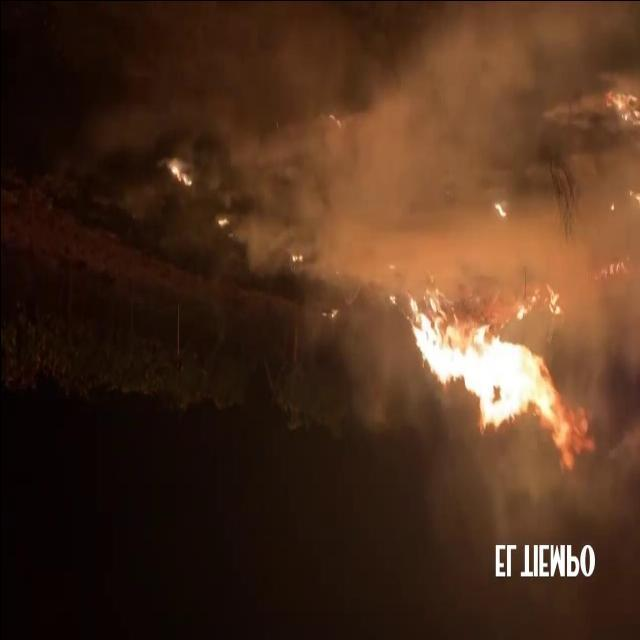Fire: (385, 290, 595, 460), (604, 82, 638, 134), (169, 160, 191, 188), (598, 260, 626, 280), (493, 201, 505, 219), (290, 254, 301, 268), (214, 216, 228, 226), (330, 308, 336, 322)
